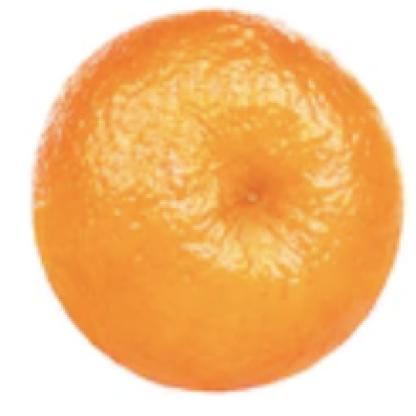fresh: (31, 8, 404, 392)
